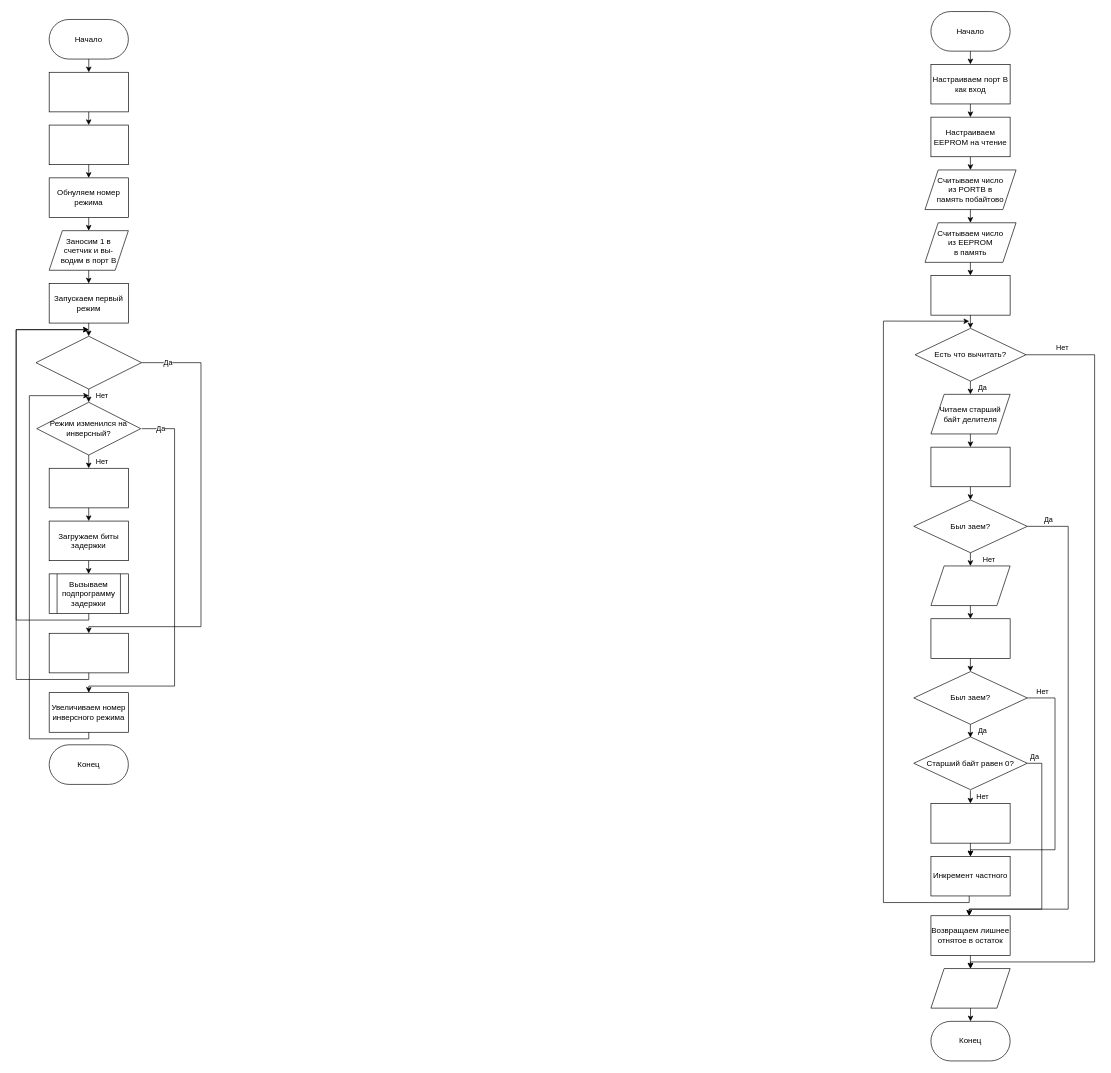
The diagram is 1111 pixels wide and 1073 high, and some of its shapes have lost their labels. Here are the shapes that lost their labels. From the top down, the box of each, then its label:
(49, 72, 128, 112): Настраиваем порт А как вход
(49, 124, 128, 165): Настраиваем порт В как выход
(930, 275, 1010, 315): Обнуляем частное
(35, 336, 142, 389): Режим изменился?
(930, 446, 1010, 487): Вычитаем старший байт делителя из днлимого
(49, 468, 128, 508): Отрисовываем кадр режима
(930, 565, 1010, 606): Читаем младший байт делителя
(49, 633, 128, 673): Увеличиваем номер режима
(930, 618, 1010, 658): Вычитаем младший байт делителя из делимого
(930, 803, 1010, 843): Декремент старшего байта
(930, 968, 1010, 1008): Выводим результат
